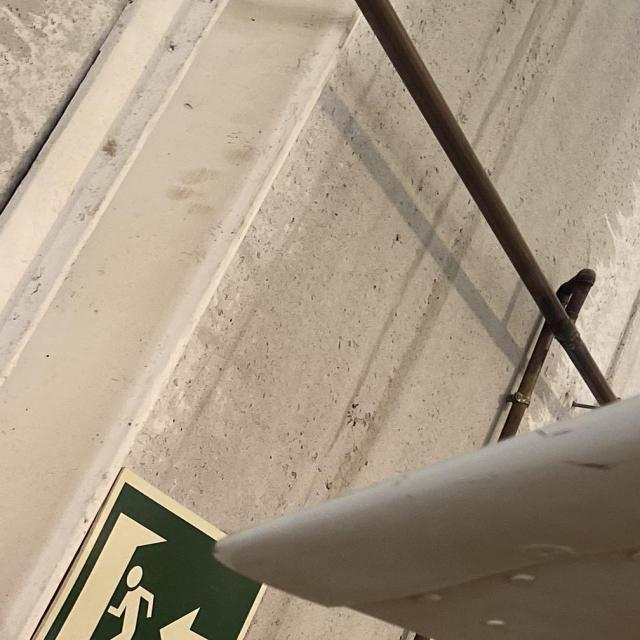Paint-off: (515, 420, 585, 444), (558, 458, 611, 475)
